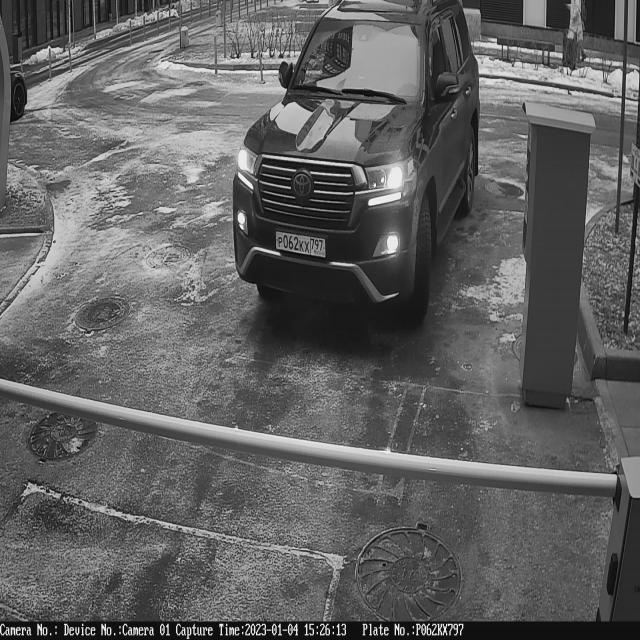car-plate-numbers: (274, 229, 329, 264)
